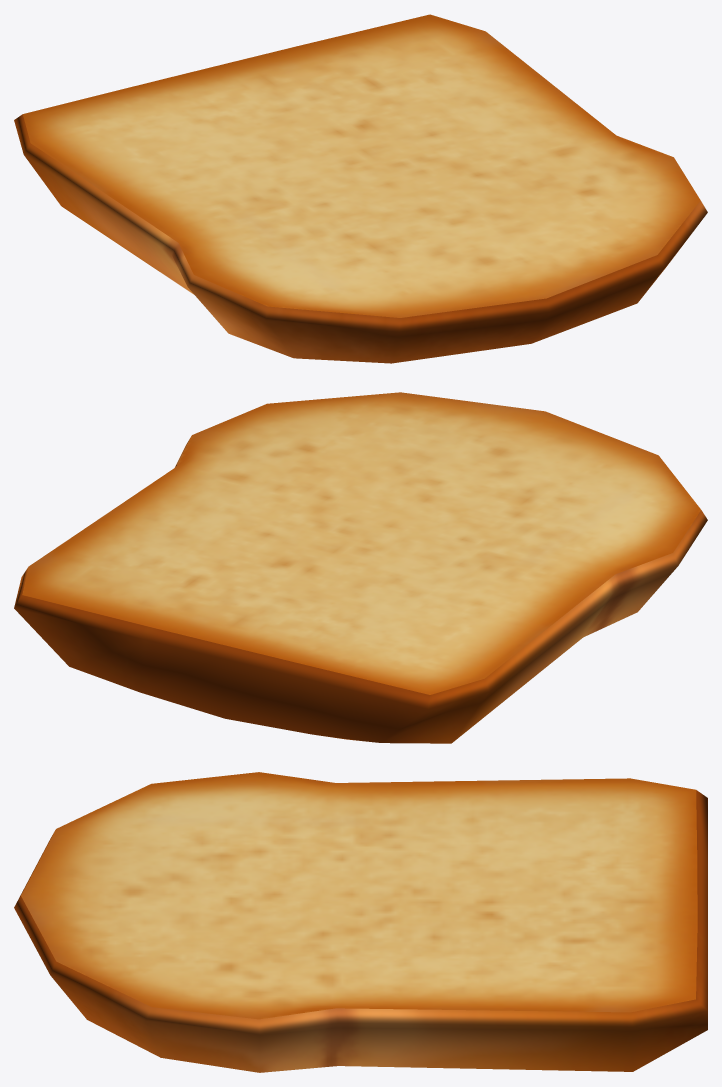
Rendered from Loaf_Sliced_Butt.fbx.
3 renders of one model, top to bottom at view 1: azimuth 30°, elevation 25°; view 2: azimuth 150°, elevation 25°; view 3: azimuth 270°, elevation 25°, orthographic. The views are drawn at different scales.
Parts seen in each view (by area): view 1: Loaf_Sliced_Butt; view 2: Loaf_Sliced_Butt; view 3: Loaf_Sliced_Butt.
Boxes of the visible parts, box(x1,y1,x2,y2) form: Loaf_Sliced_Butt: box(14, 14, 707, 363); Loaf_Sliced_Butt: box(14, 392, 707, 743); Loaf_Sliced_Butt: box(14, 772, 707, 1072).
Bounding box in the file's own units: 34.13 × 6.26 × 39.47.
